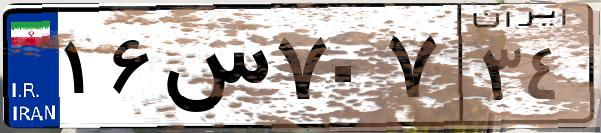0: (330, 28, 385, 110)
1: (57, 26, 110, 100)
3: (475, 38, 525, 113)
4: (525, 38, 570, 115)
6: (110, 28, 158, 98)
7: (270, 28, 330, 110), (385, 28, 445, 110)
س: (158, 20, 270, 120)
